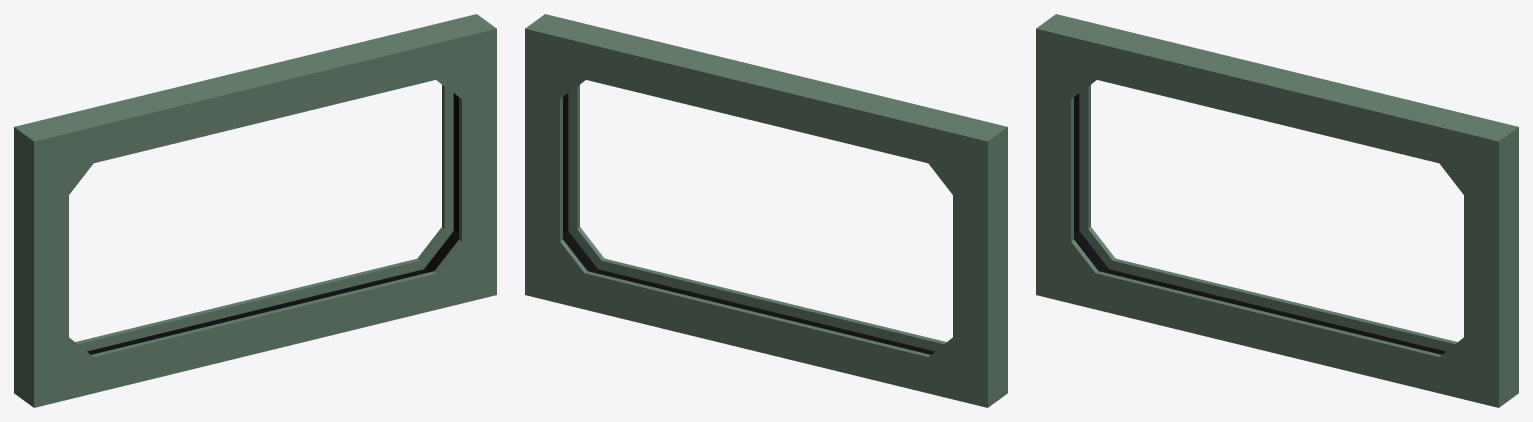
Rendered from W2_WallWindow1B_4m.fbx.
3 views of the same model, side by side, from view 1: azimuth 30°, elevation 25°; view 2: azimuth 150°, elevation 25°; view 3: azimuth 330°, elevation 25° (orthographic).
Parts seen in each view (by area): view 1: W2_WallWindow1B_4m.001; view 2: W2_WallWindow1B_4m.001; view 3: W2_WallWindow1B_4m.001.
Part boxes in pixels (box(x1,y1,x2,y2)): W2_WallWindow1B_4m.001: box(14, 14, 496, 407); W2_WallWindow1B_4m.001: box(525, 14, 1007, 407); W2_WallWindow1B_4m.001: box(1036, 14, 1518, 407).
Bounding box in the file's own units: 4 × 2.2 × 0.3.
